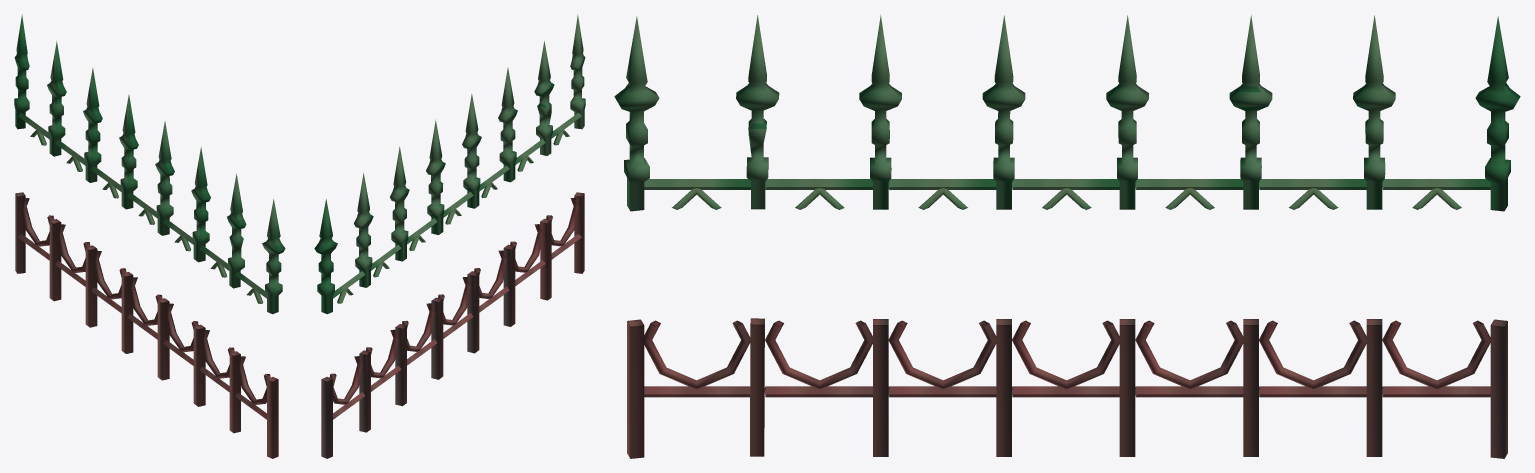
Rendered from CercaReta.fbx.
3 renders of one model, left to right at view 1: azimuth 30°, elevation 25°; view 2: azimuth 150°, elevation 25°; view 3: azimuth 270°, elevation 25°, orthographic. The views are drawn at different scales.
Visible parts, largest first — view 1: CercaReta; view 2: CercaReta; view 3: CercaReta.
Part boxes in pixels (x1,y1,x2,y2): CercaReta: (14, 14, 285, 458); CercaReta: (314, 14, 585, 458); CercaReta: (614, 14, 1520, 458).
Size of the model in its own units: 0.0472 by 1.56 by 0.8355.
